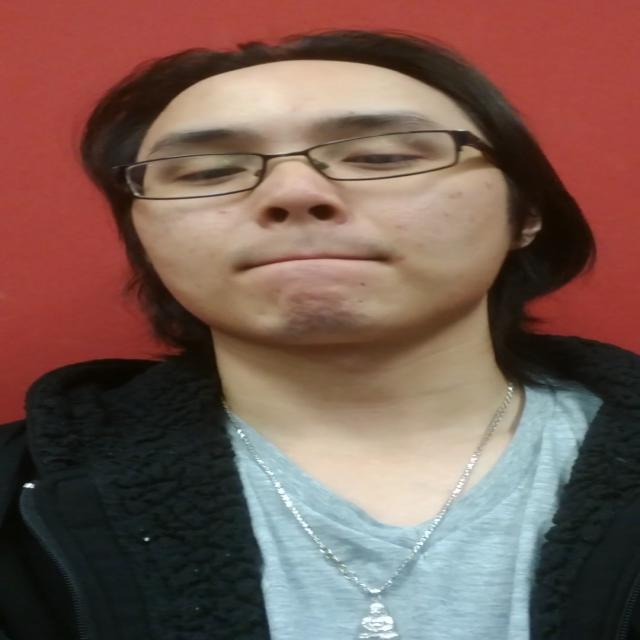Eyeclosed: (340, 137, 422, 176), (172, 152, 250, 192)
